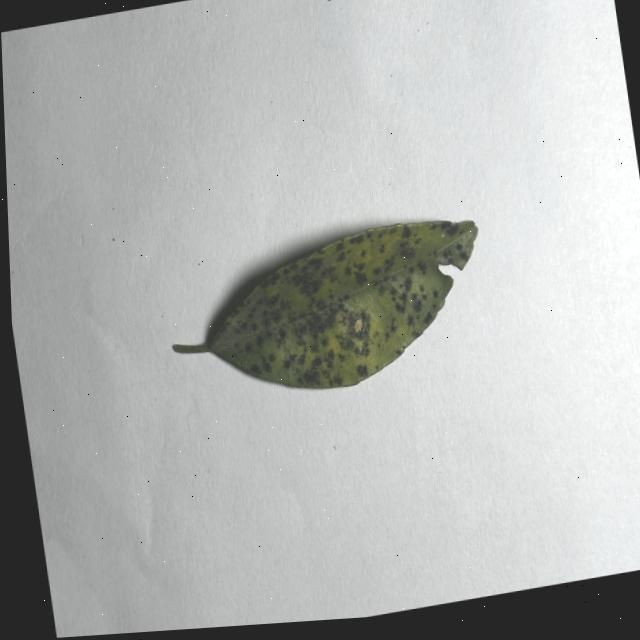sooty_mold: (172, 221, 476, 388)
